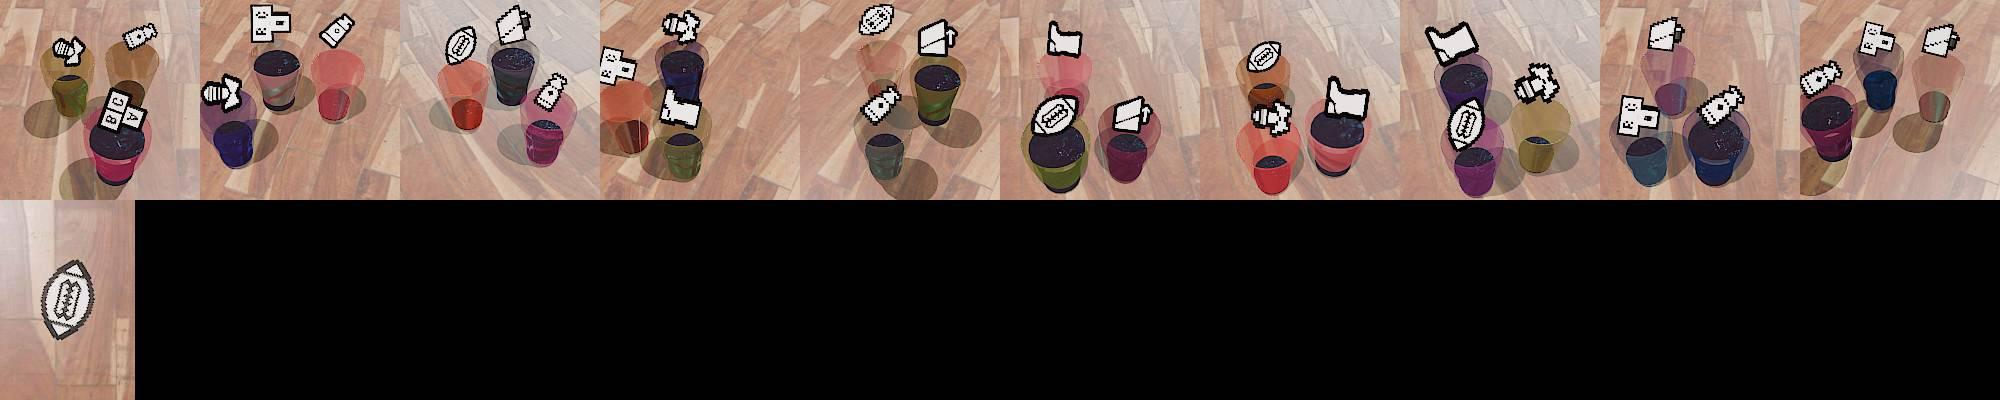icon: (39, 259, 95, 342), (1426, 20, 1480, 67), (95, 87, 149, 134), (1323, 75, 1370, 121), (1514, 62, 1562, 104), (1696, 86, 1745, 127), (1617, 93, 1662, 137), (1447, 97, 1485, 149), (1032, 93, 1077, 136), (657, 86, 702, 128), (200, 73, 246, 113), (1111, 94, 1155, 135), (859, 84, 902, 125), (916, 18, 959, 59), (1798, 60, 1843, 99), (250, 4, 293, 44), (494, 4, 532, 47), (599, 46, 638, 87), (661, 9, 704, 46), (1251, 97, 1292, 134), (1046, 19, 1084, 58), (1857, 21, 1897, 57), (319, 12, 355, 50), (445, 25, 478, 66), (535, 72, 569, 111), (1648, 16, 1684, 52), (1921, 23, 1959, 57), (858, 3, 895, 37), (1244, 40, 1281, 74), (52, 36, 87, 67), (122, 21, 158, 51)
